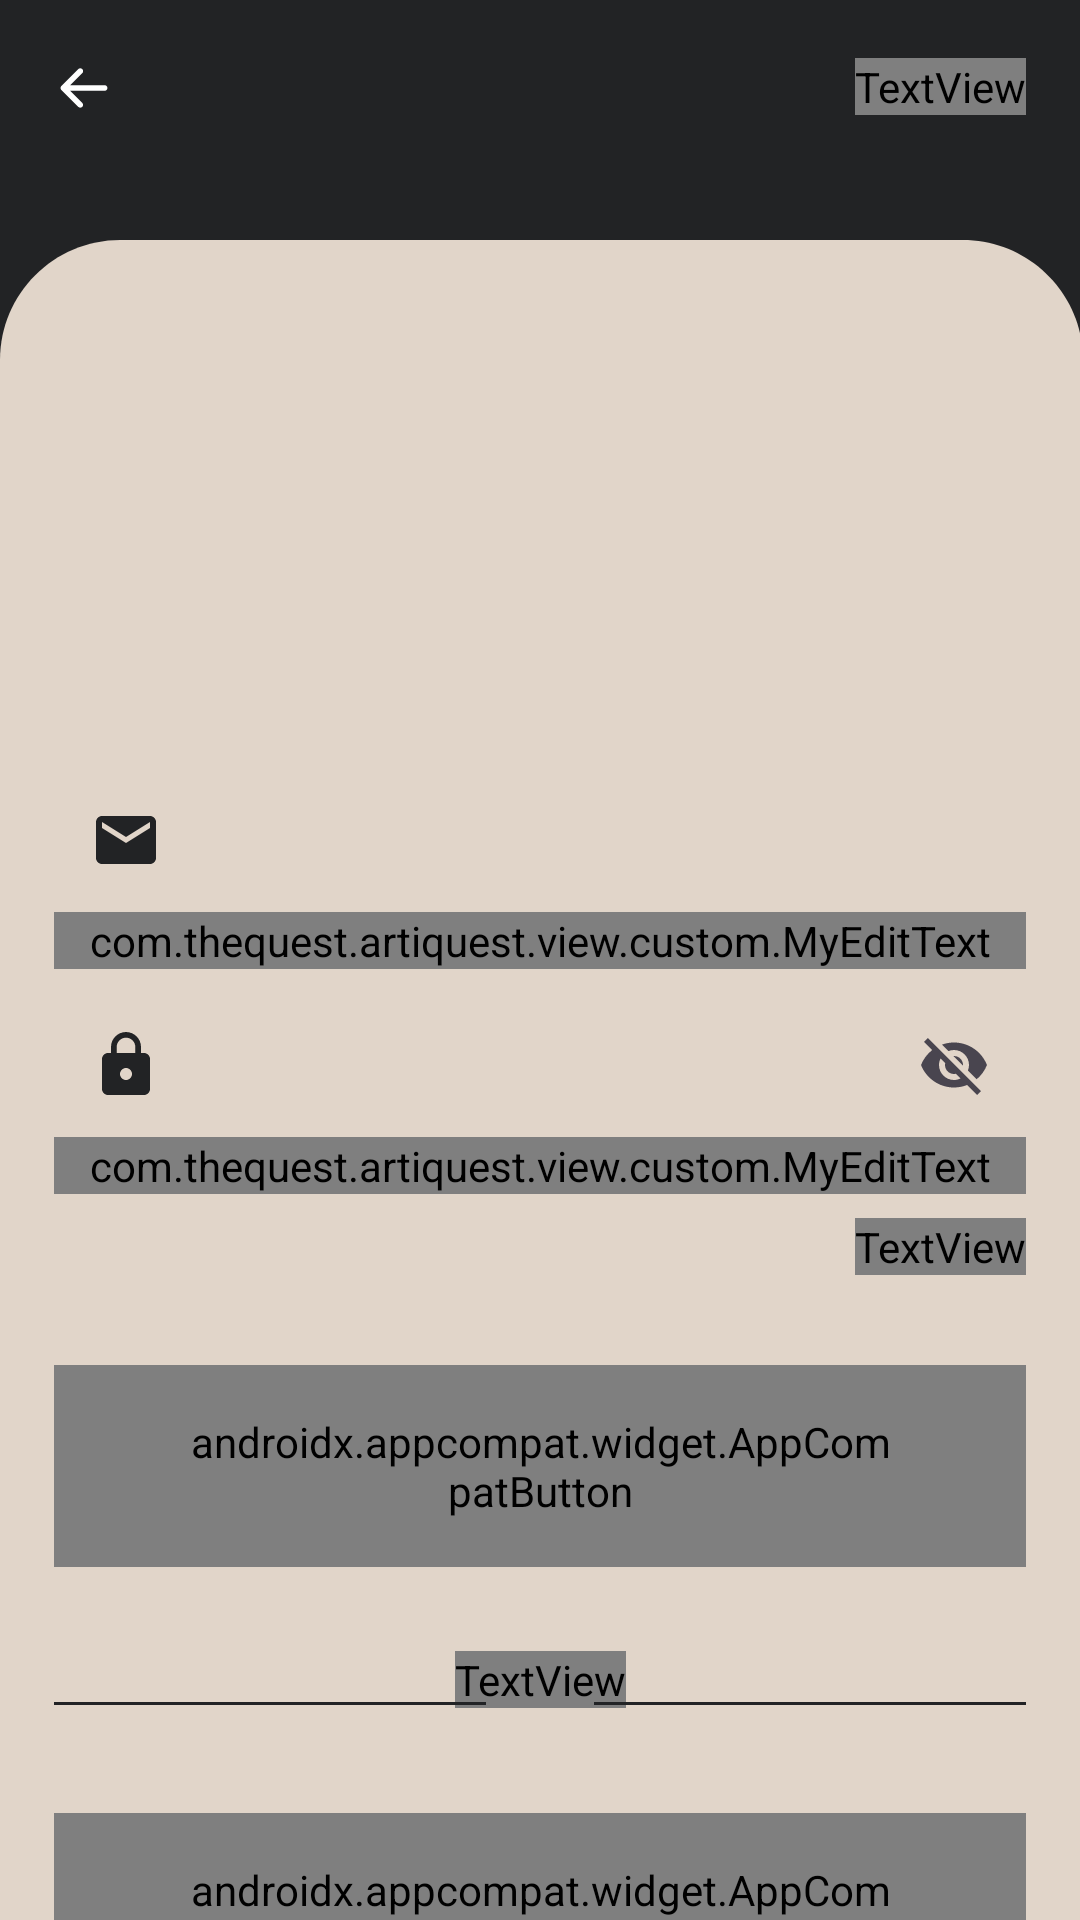

Where to tap for icons on this 1080px×1920px app screen, as (x,y):
Back: (84,88)
